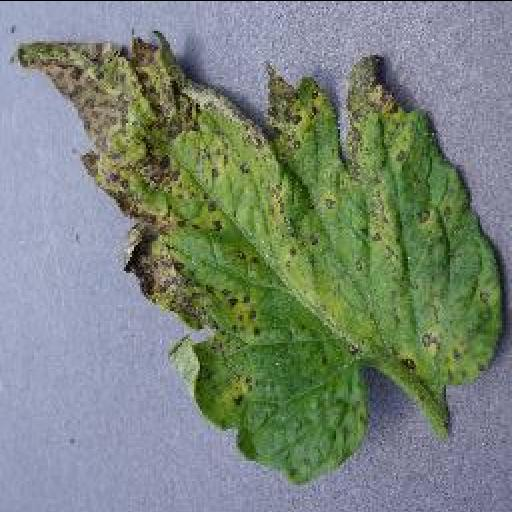disease_tomato: (16, 28, 502, 485)
